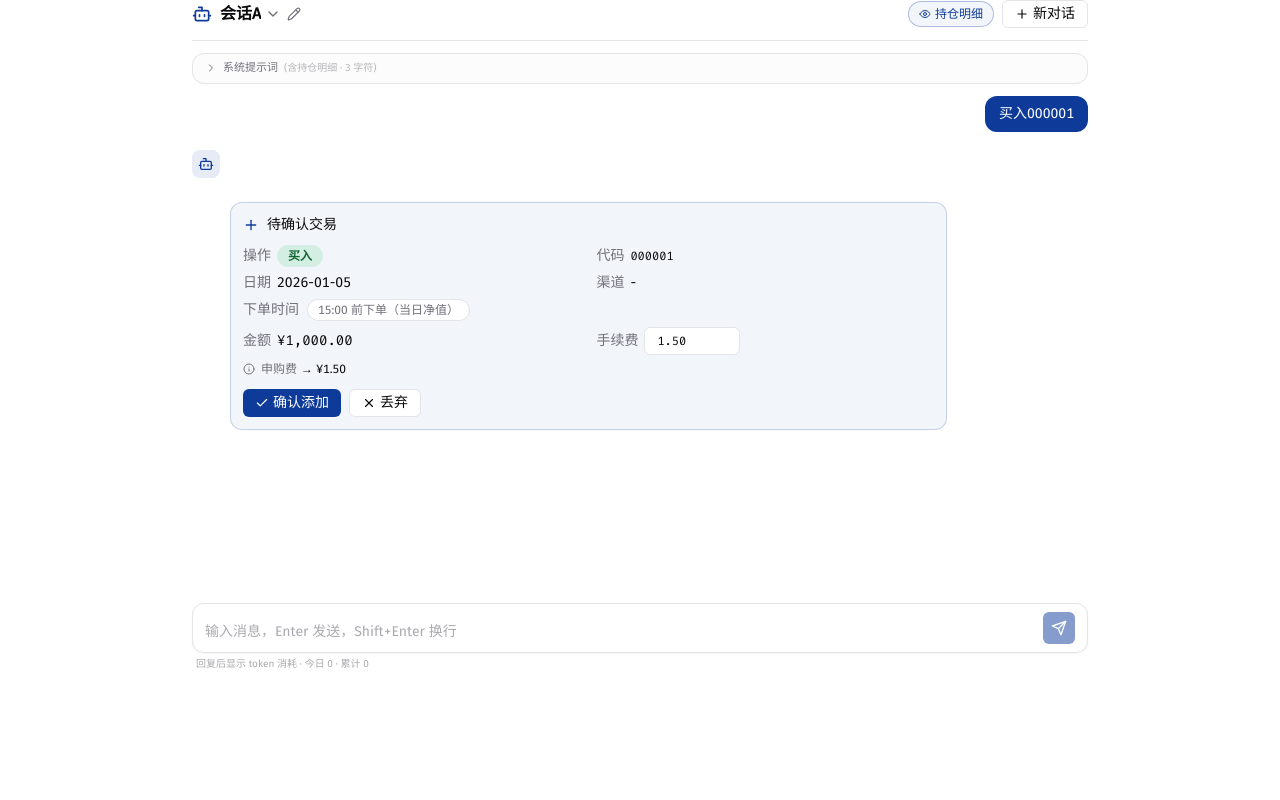
Test case: AIChat 会话切换状态隔离 › 切换会话后卡片重挂载，手续费编辑值不串会话
Replace the text in the number field with "9.99" at (692, 340), box [644,326,740,354]
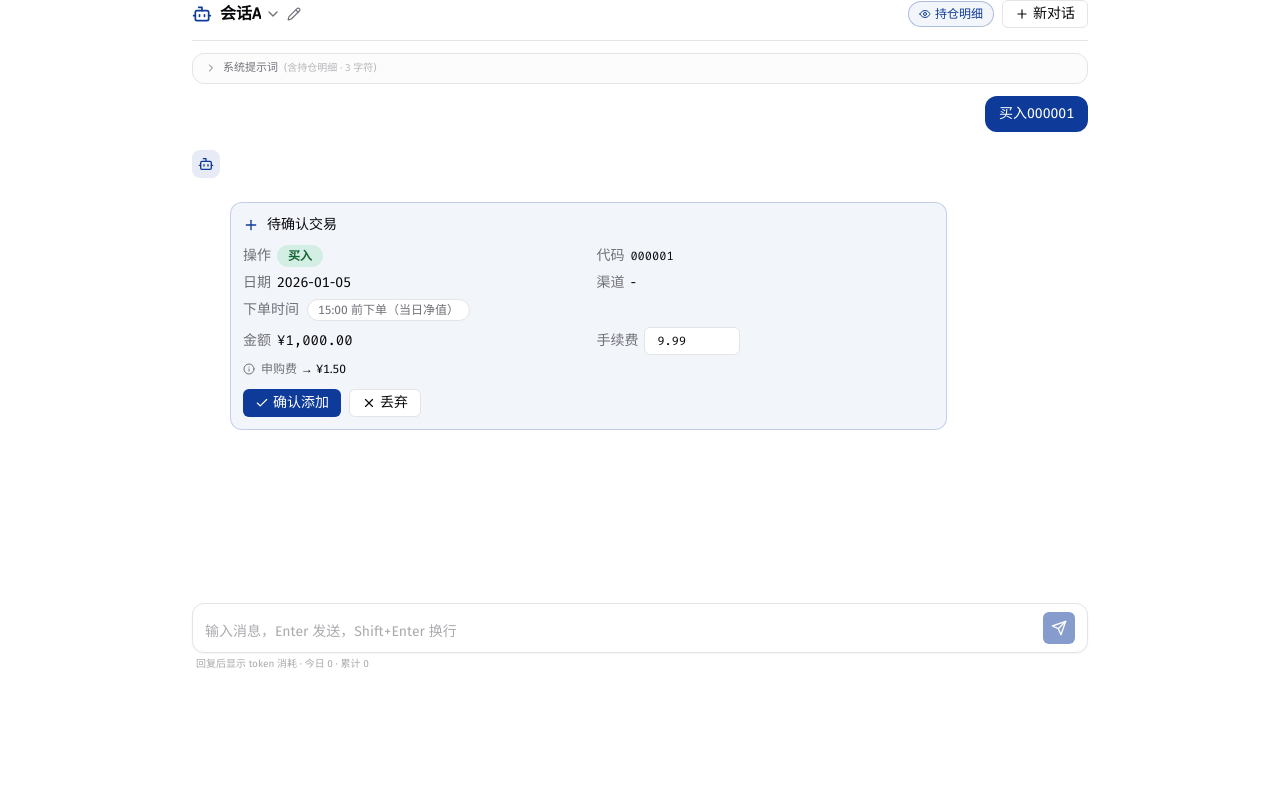
# 打开历史会话下拉并切换到会话B（相同下标处也有待确认交易）
Click the button "会话A" at (251, 14), box [220,2,281,26]
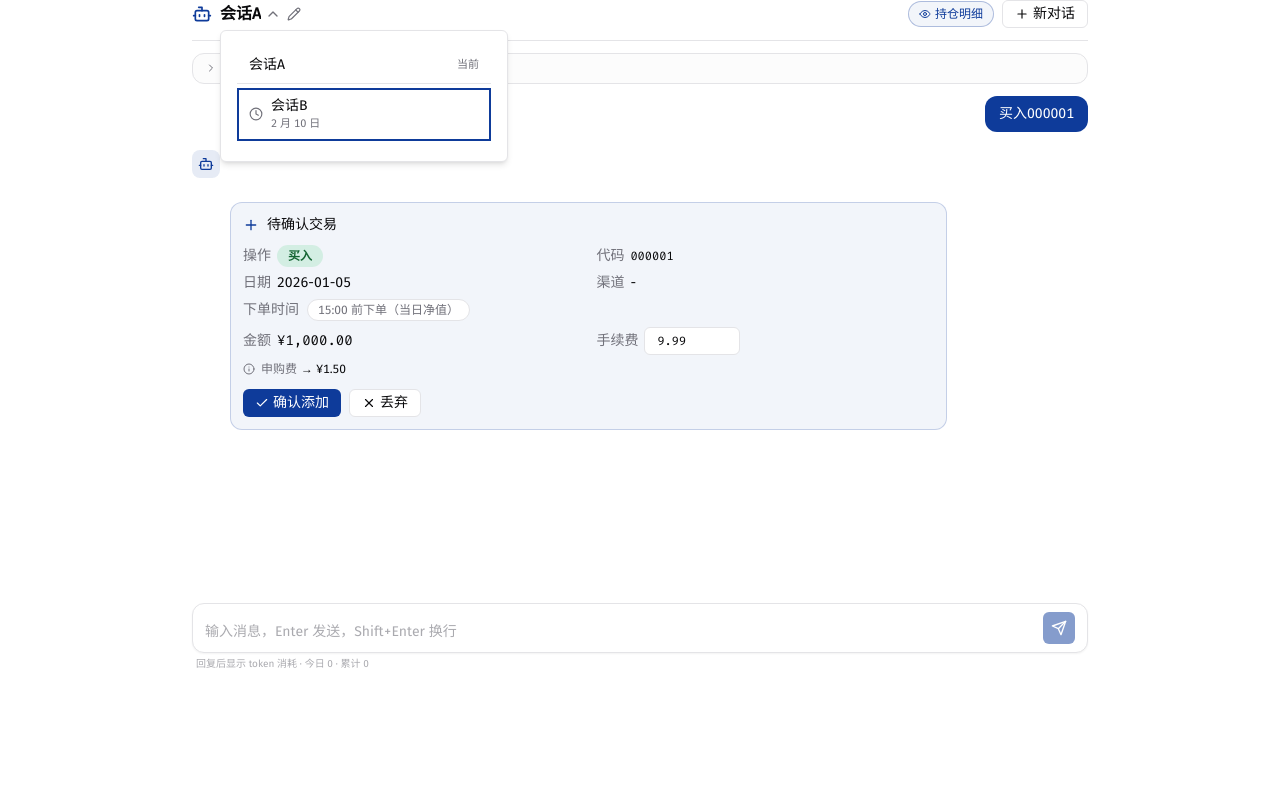
Click the text "会话B" at (289, 106), box [271,97,308,114]
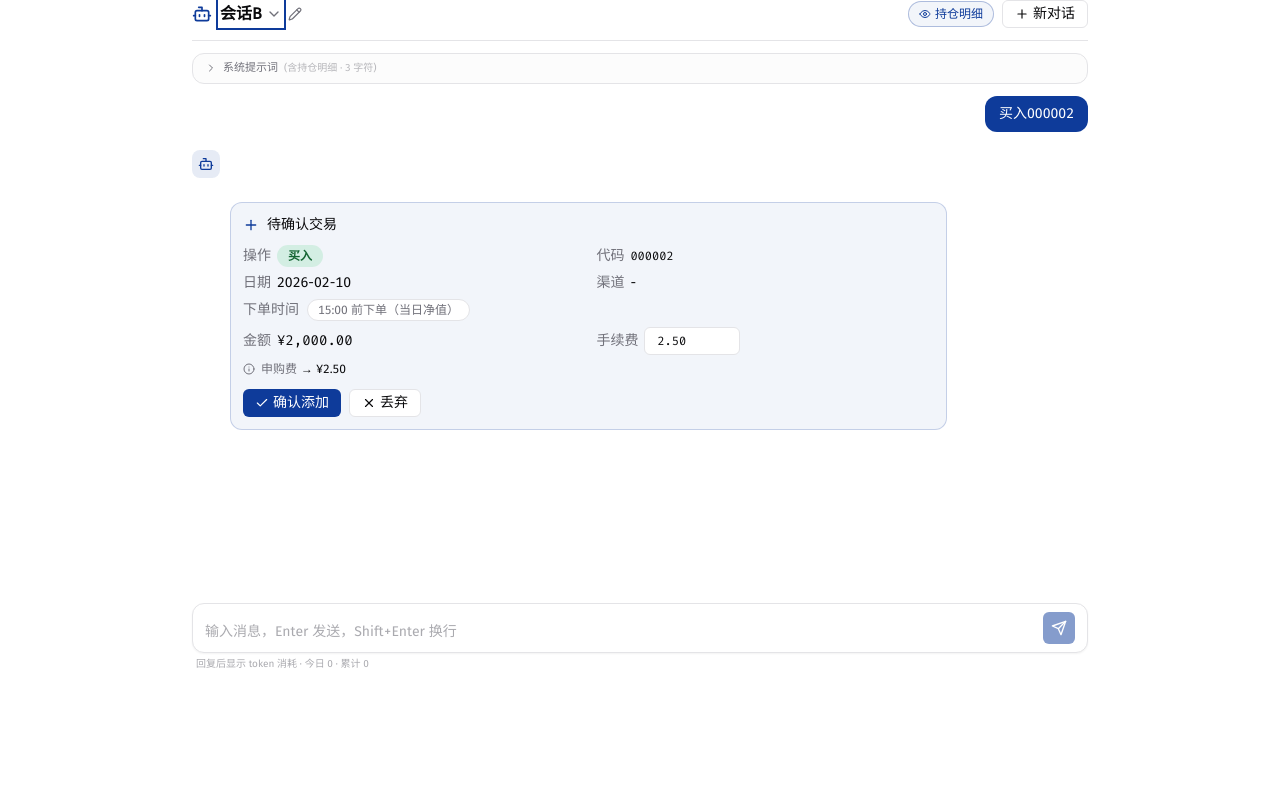
Expected: the number field holds "2.5", [644,326,740,354]
Expected: the text "000002" is shown, [630,248,674,264]
Expected: the text "000001" is gone
